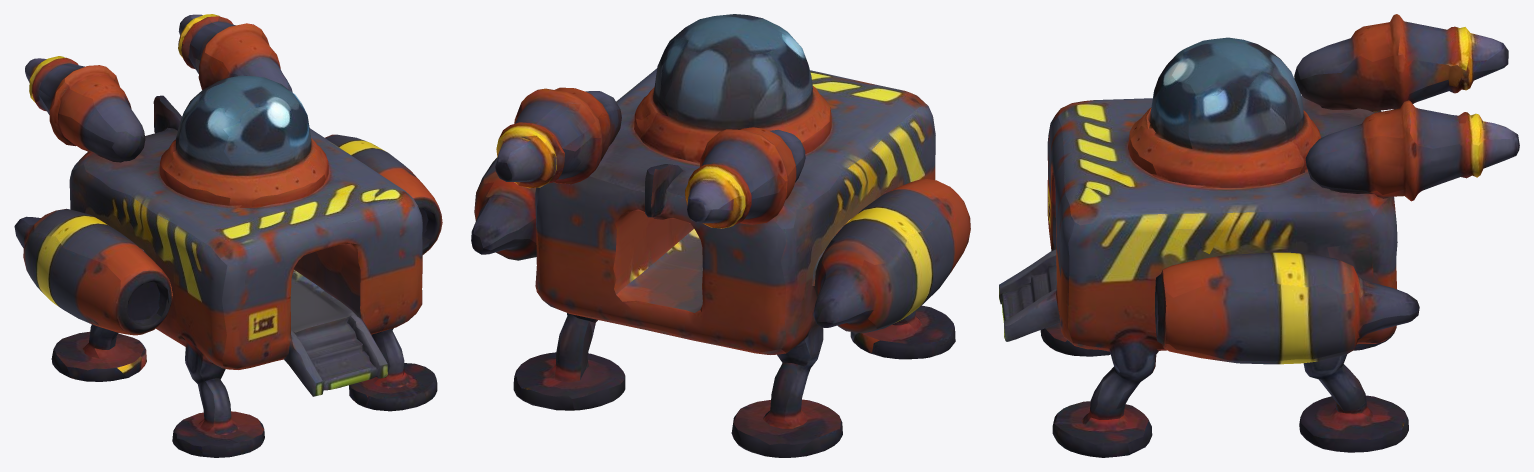
Rendered from cartel_ship.glb.
3 renders of one model, left to right at view 1: azimuth 30°, elevation 25°; view 2: azimuth 150°, elevation 25°; view 3: azimuth 270°, elevation 25°, orthographic. The views are drawn at different scales.
Parts seen in each view (by area): view 1: cartel_ship_b; view 2: cartel_ship_b; view 3: cartel_ship_b.
Boxes of the visible parts, x1=… form: cartel_ship_b: x1=14, y1=14, x2=442, y2=457; cartel_ship_b: x1=471, y1=14, x2=970, y2=457; cartel_ship_b: x1=999, y1=14, x2=1519, y2=457.
Bounding box in the file's own units: 0.9231 × 0.7133 × 1.
Materials: 1 (1 with a texture image).
